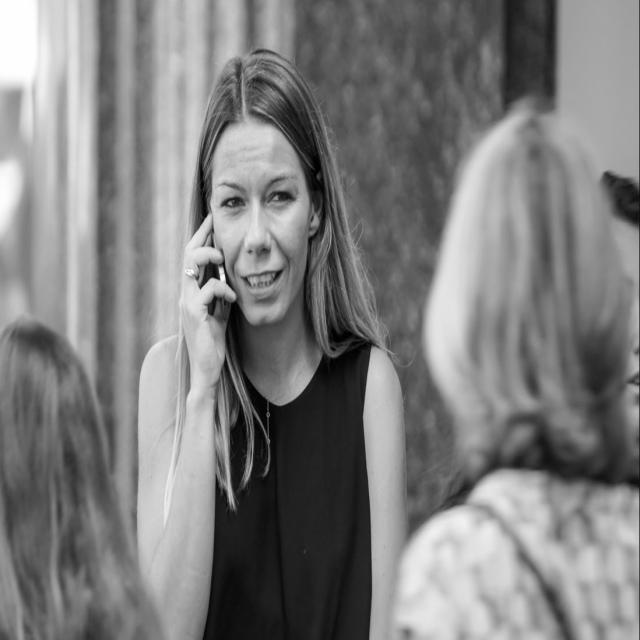phone: (161, 168, 262, 383)
